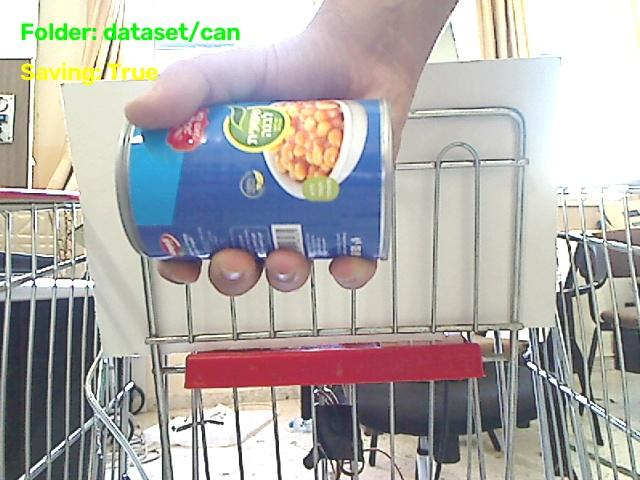can: (116, 100, 392, 258)
